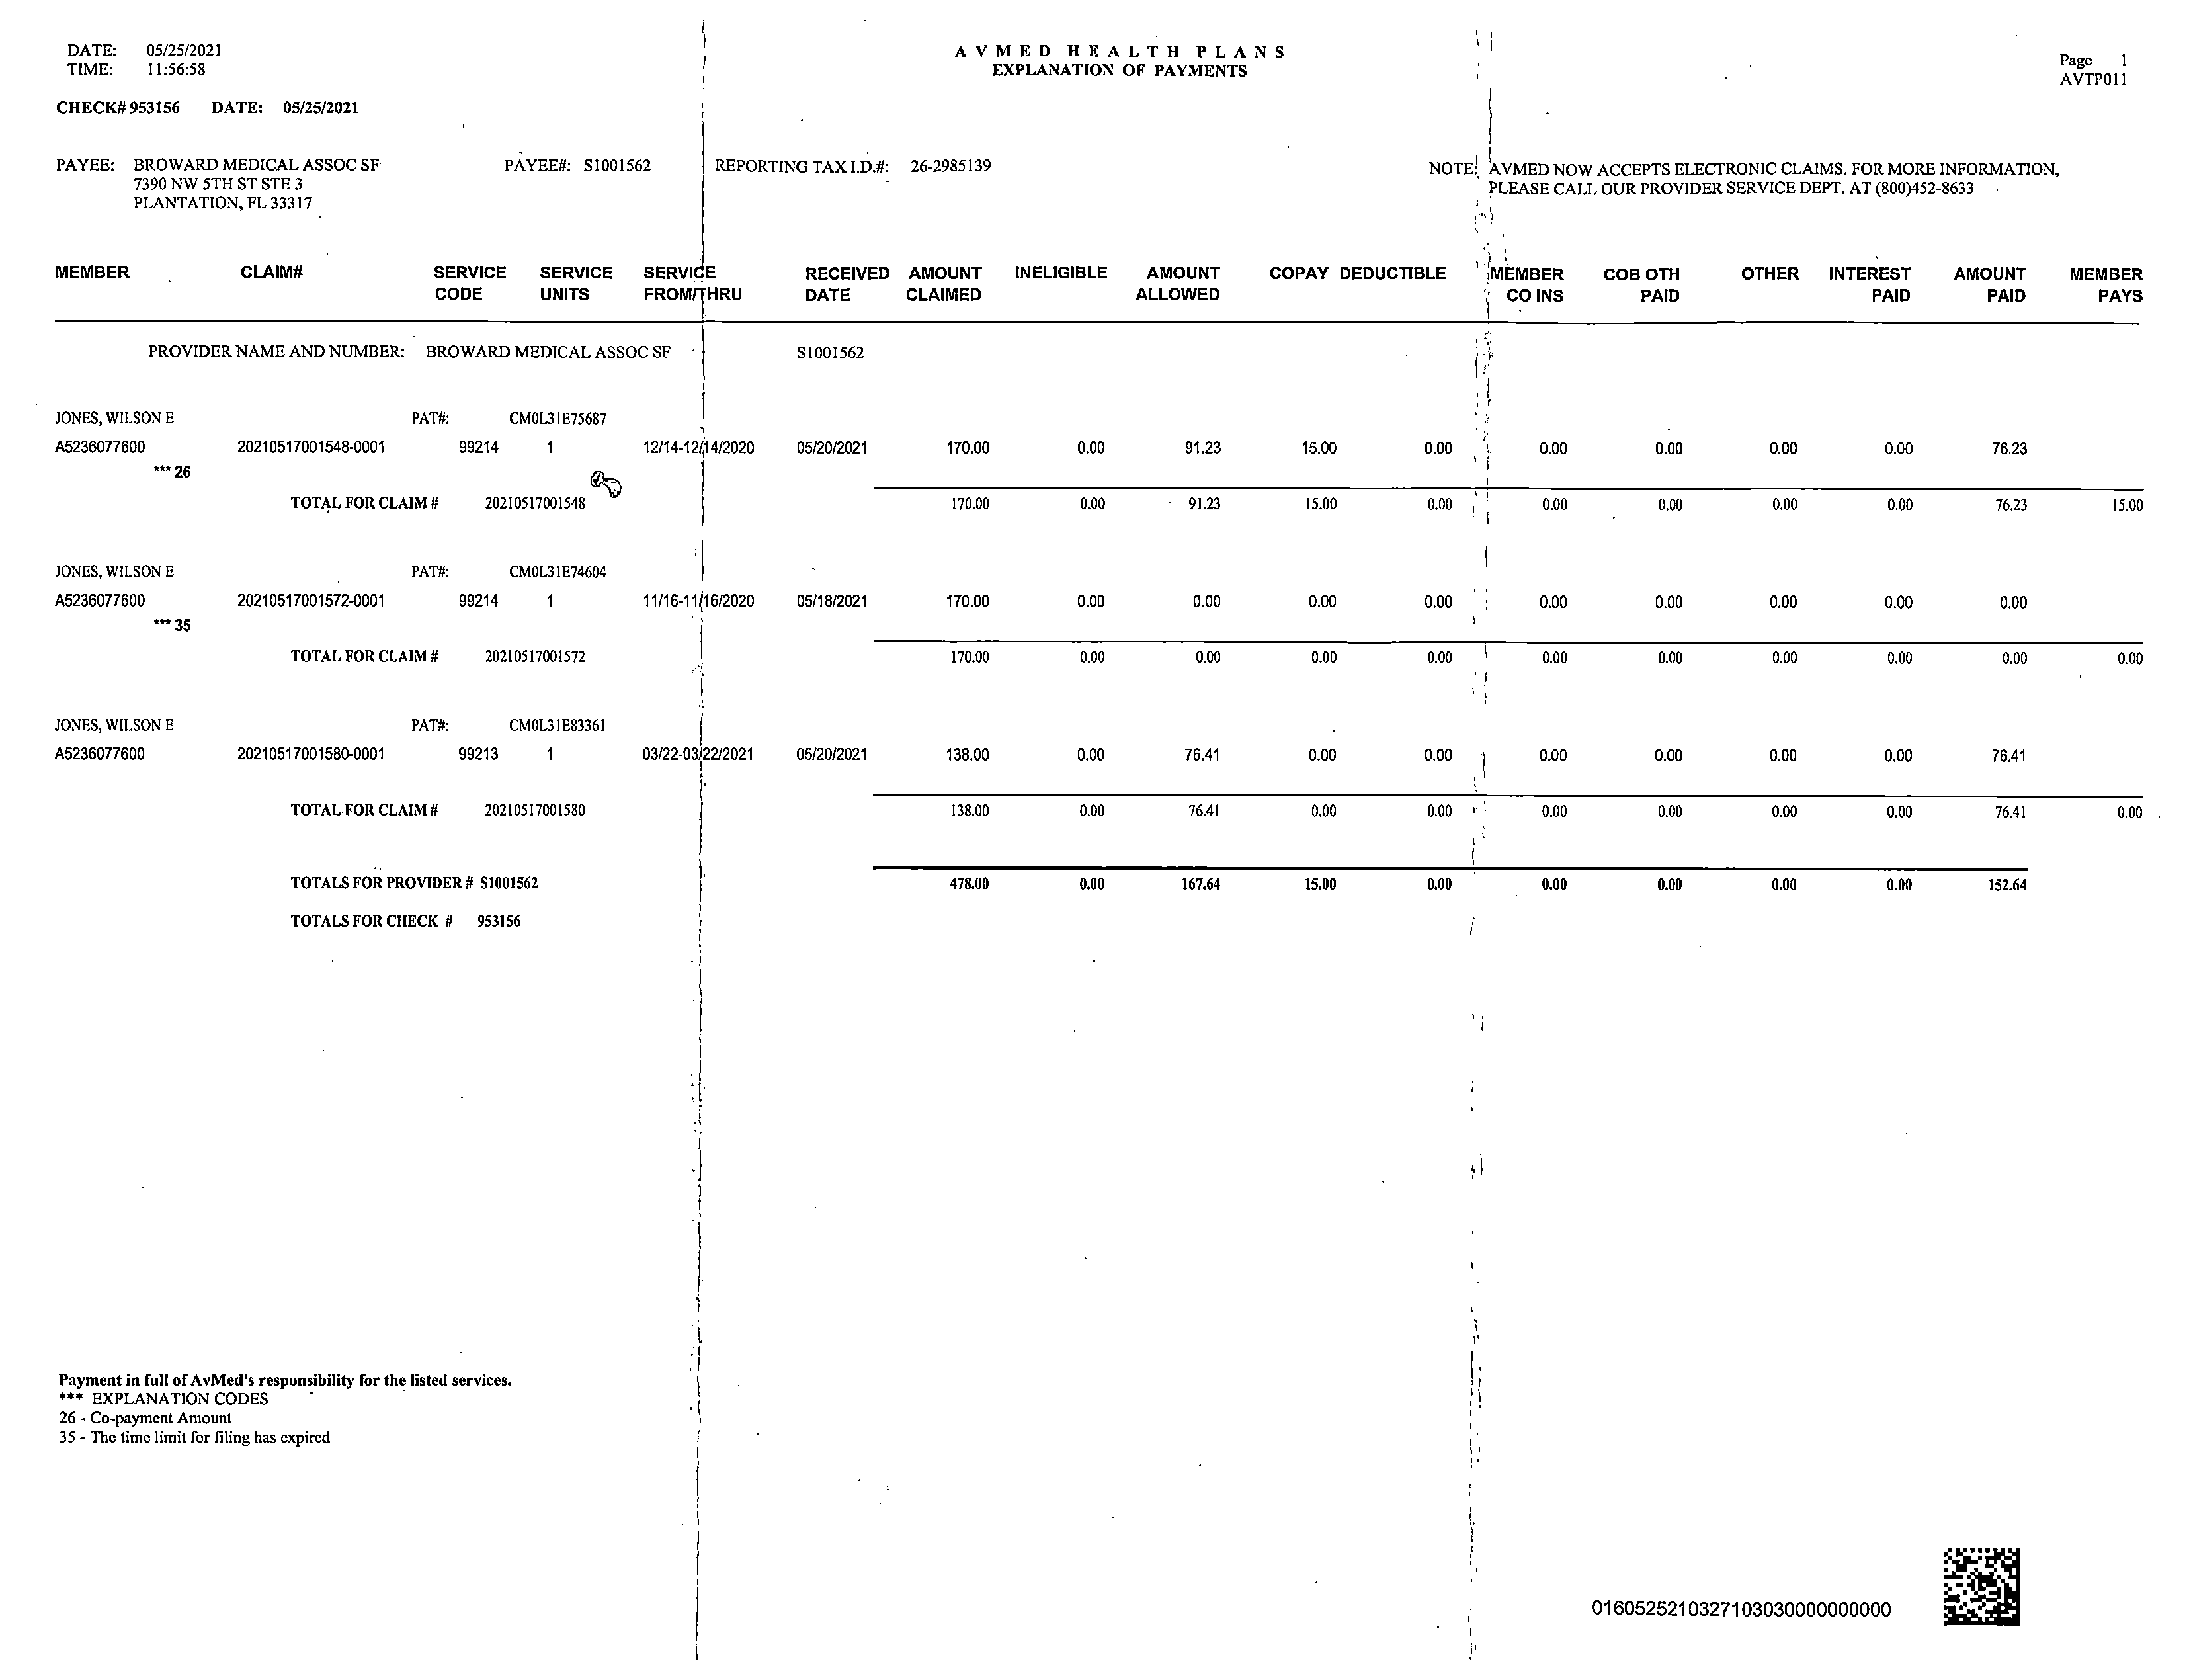data: (503, 139, 1018, 208), (53, 28, 385, 132), (46, 145, 402, 229)
table: (46, 242, 2155, 949)
